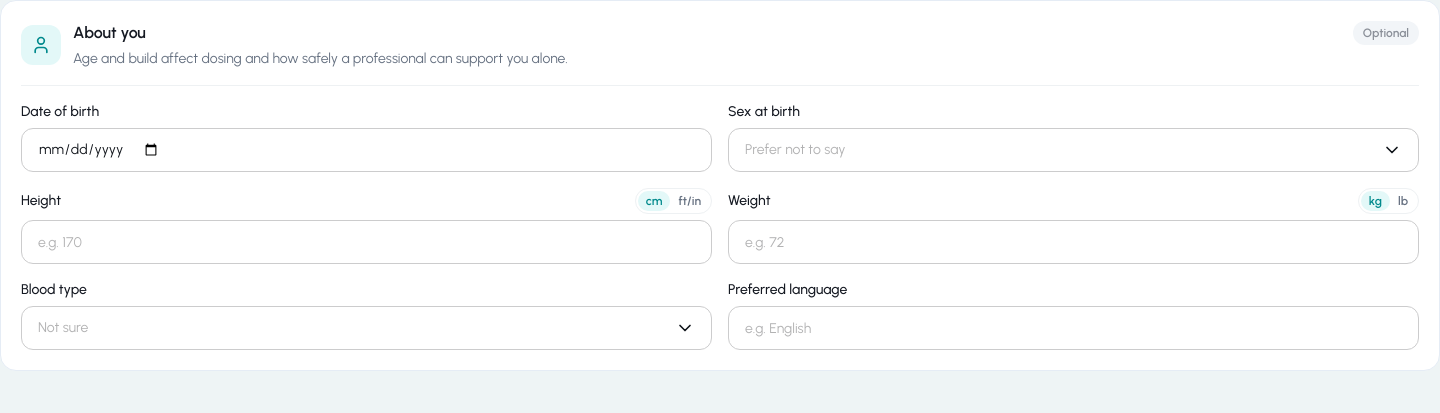
Test: height and weight units › explains an implausible centimetre value at the field
Type "5" into the number field named "Height in centimetres" at (366, 242), box [21,220,712,264]
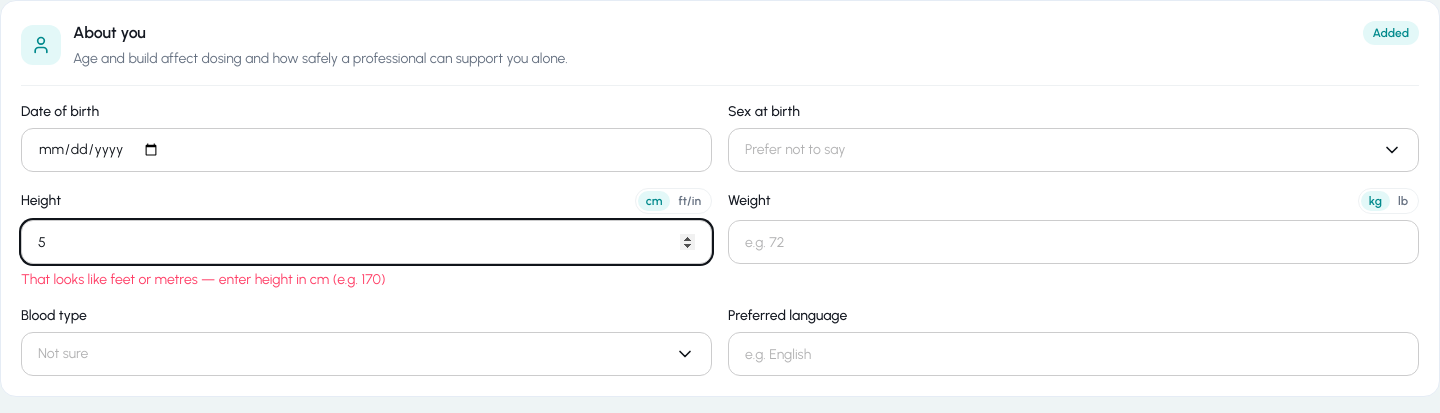
Expected: the text "feet or metres" is shown, [21,271,386,288]
